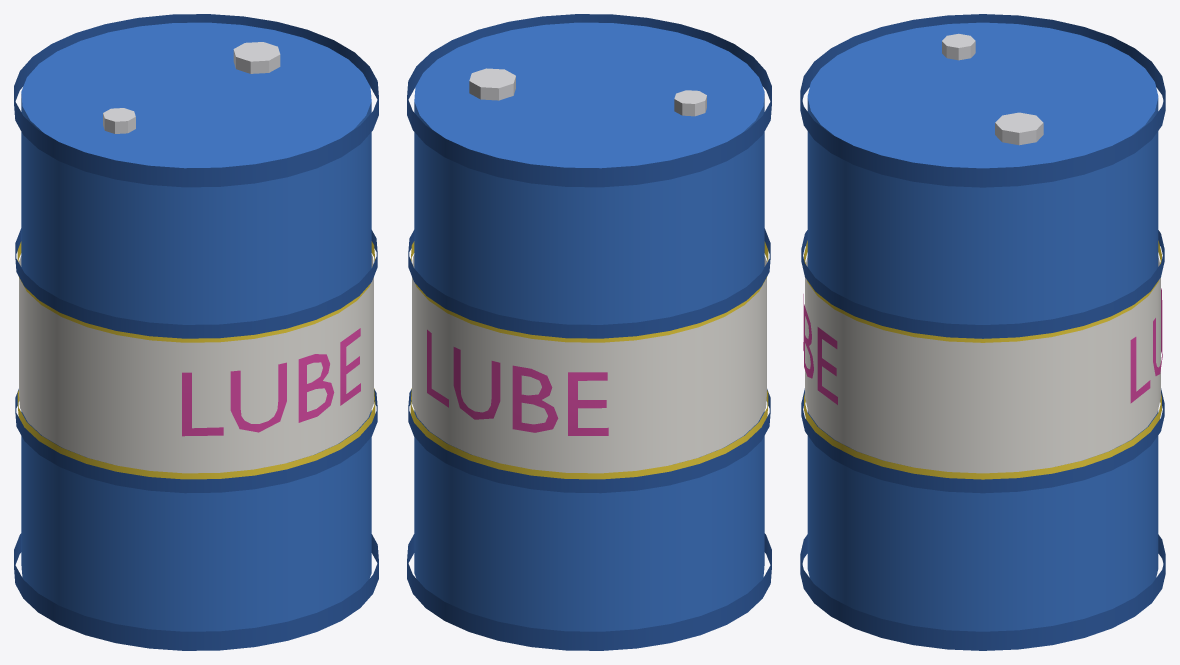
File: lube_barrel.glb
3 renders of one model, left to right at view 1: azimuth 30°, elevation 25°; view 2: azimuth 150°, elevation 25°; view 3: azimuth 270°, elevation 25°, orthographic.
Parts seen in each view (by area): view 1: LubeBarrel; view 2: LubeBarrel; view 3: LubeBarrel.
Part boxes in pixels (x1,y1,x2,y2): LubeBarrel: (14,14,378,650); LubeBarrel: (407,14,771,650); LubeBarrel: (800,14,1165,650).
Size of the model in its own units: 0.604 by 0.8925 by 0.604.
